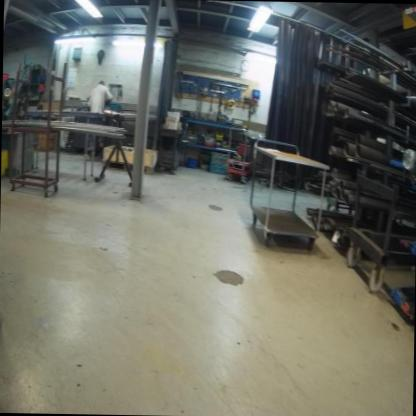pallet: (101, 160, 157, 177)
